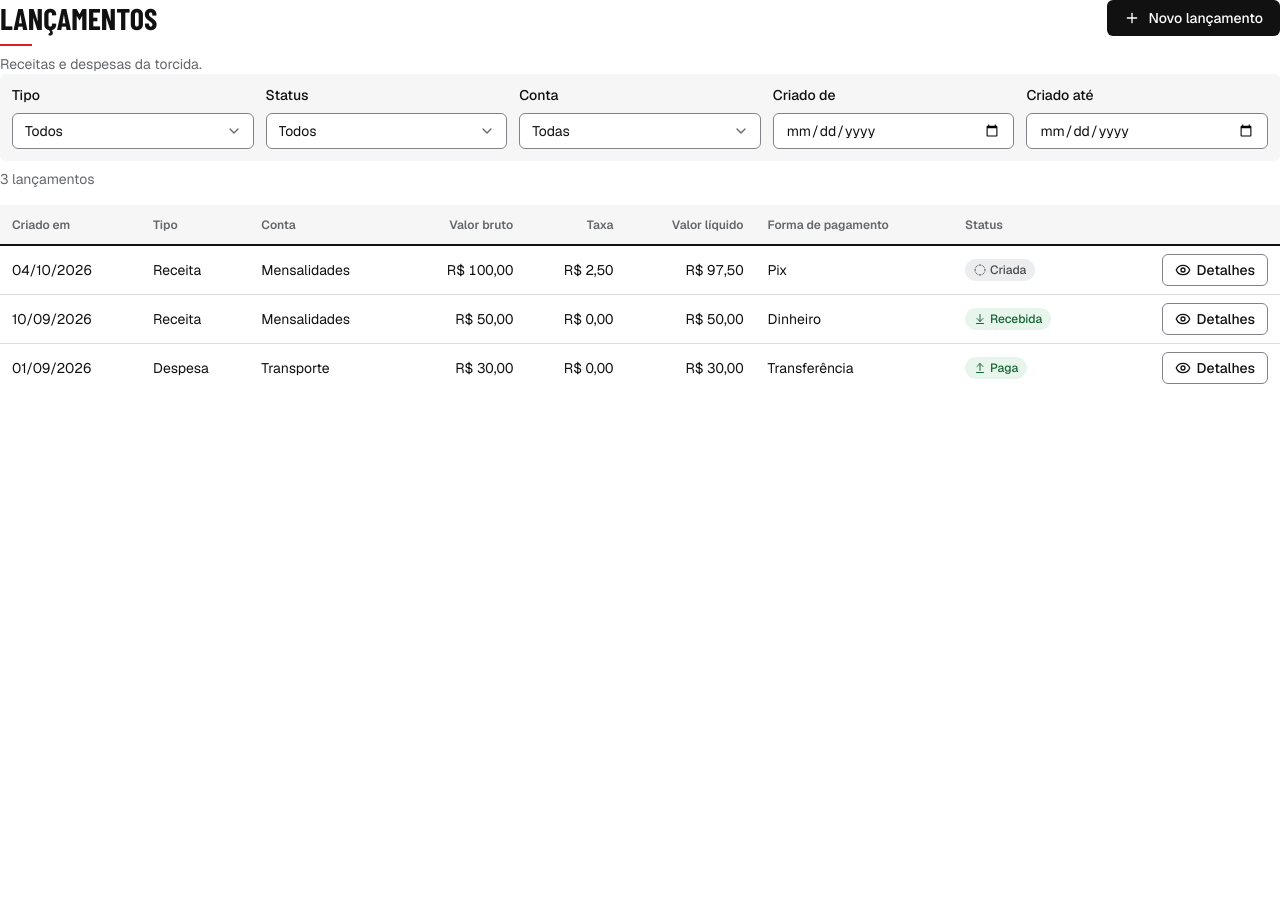
Test: criação › envia os valores em centavos inteiros, com CSRF, e atualiza a lista
Expected: the heading "Lançamentos" is shown, left=0, top=0, right=157, bottom=46
Click the button "Novo lançamento".
click(1194, 18)  # box left=1107, top=0, right=1279, bottom=36
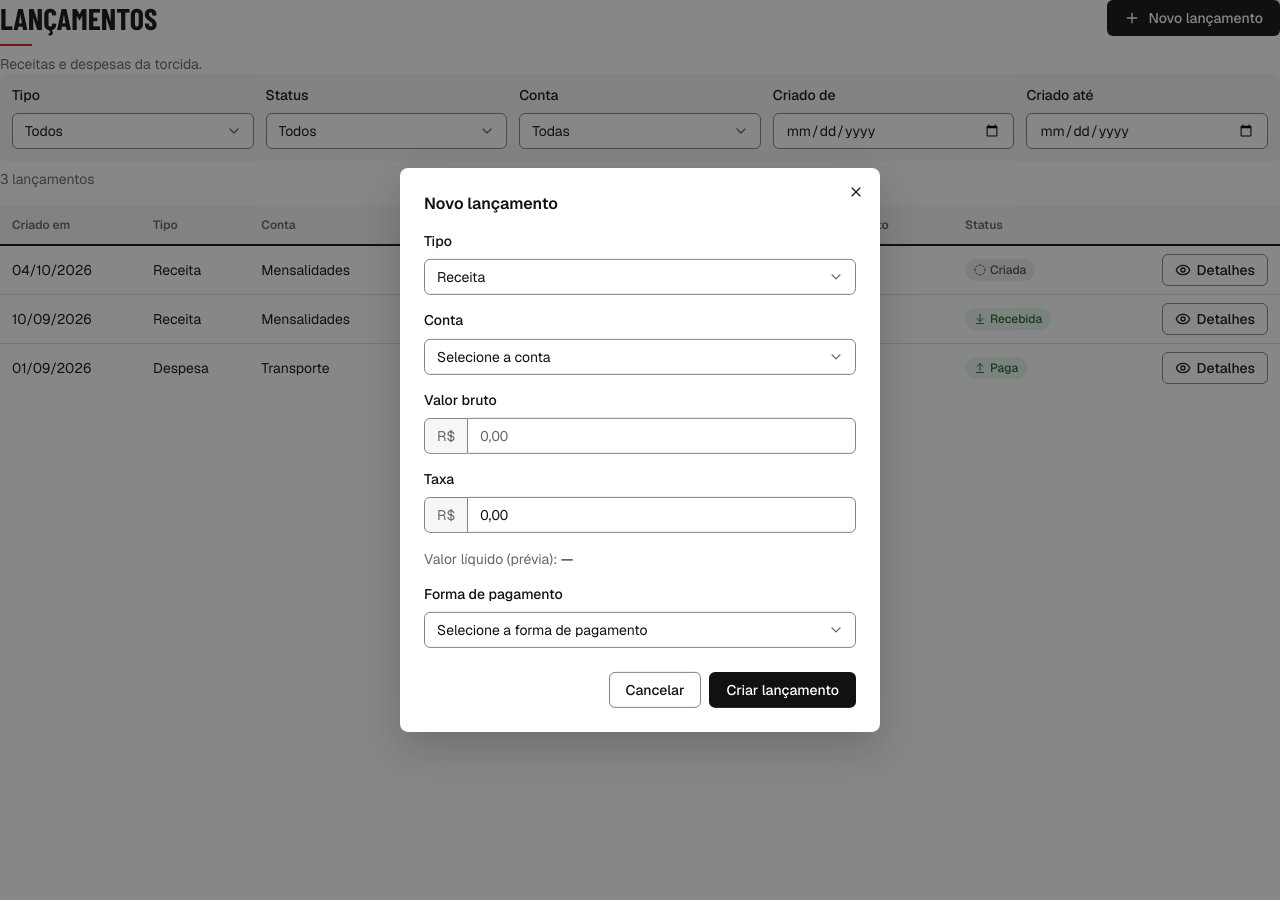
Expected: the dialog is shown, left=400, top=168, right=880, bottom=732
Select "Mensalidades" in the dropdown labelled "Conta" at (640, 356), box left=424, top=338, right=856, bottom=374
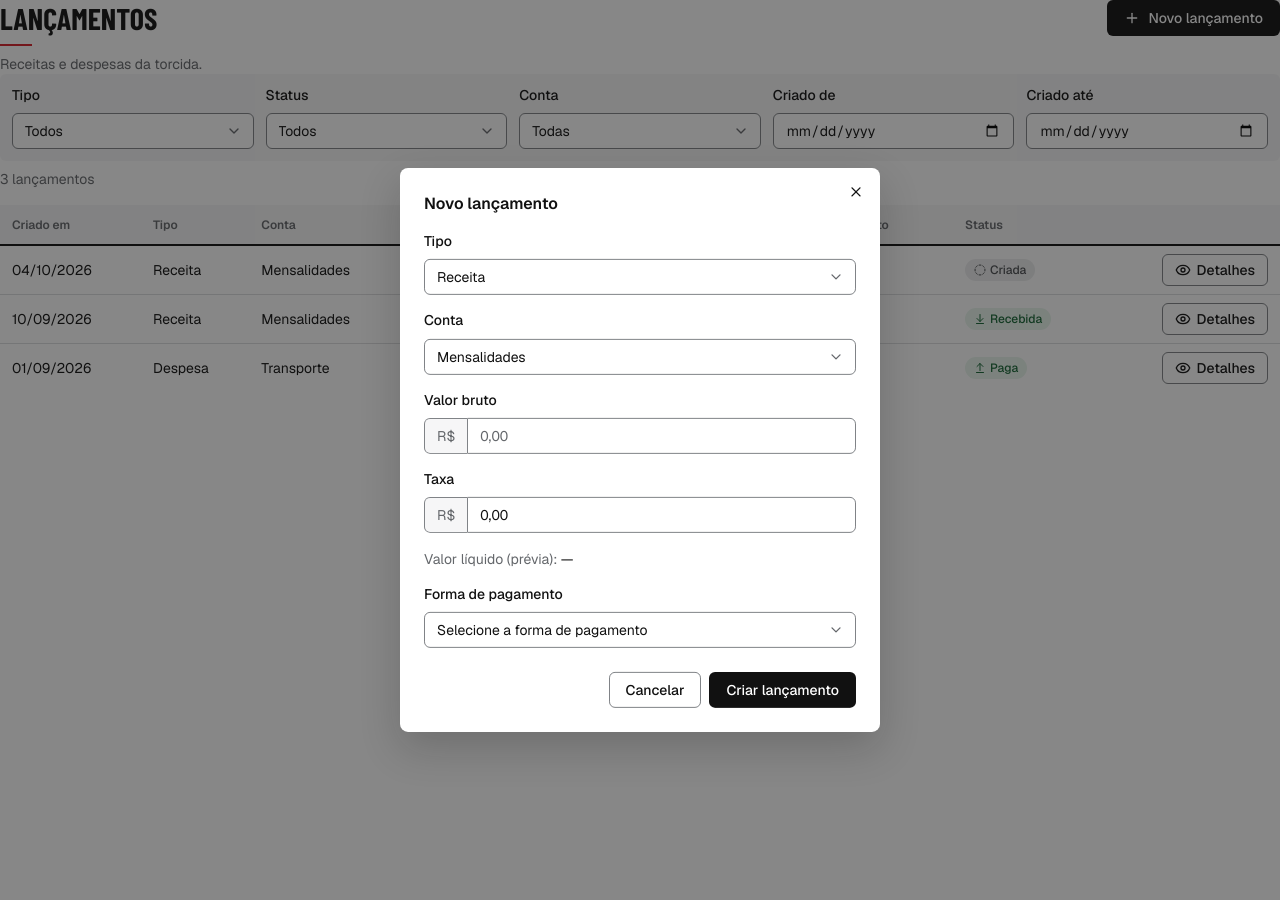
Type "150,00" into the field labelled "Valor bruto".
click(662, 436); type("150,00")  # box left=467, top=418, right=856, bottom=454
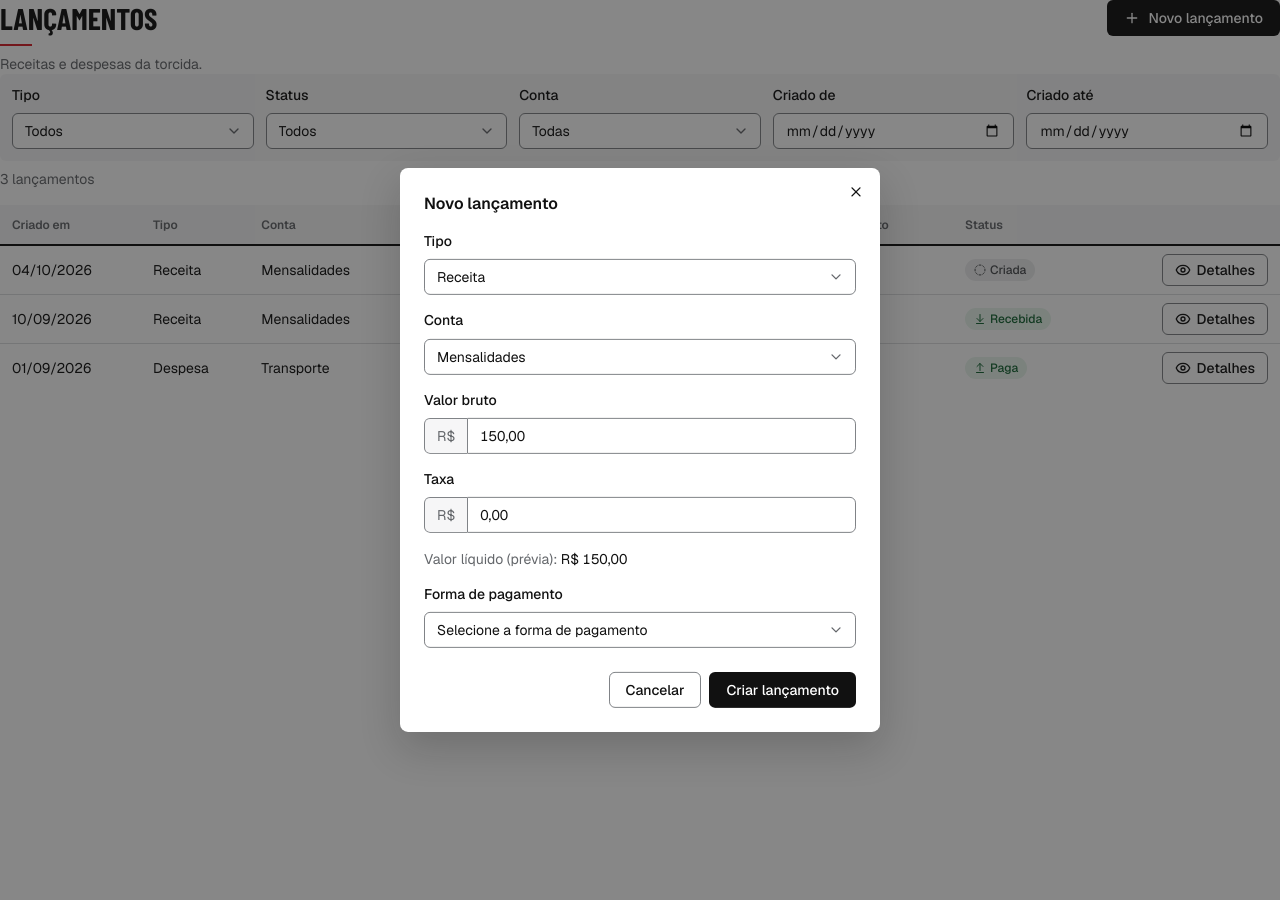
Type "2,50" into the field labelled "Taxa".
click(662, 515); type("2,50")  # box left=467, top=497, right=856, bottom=533
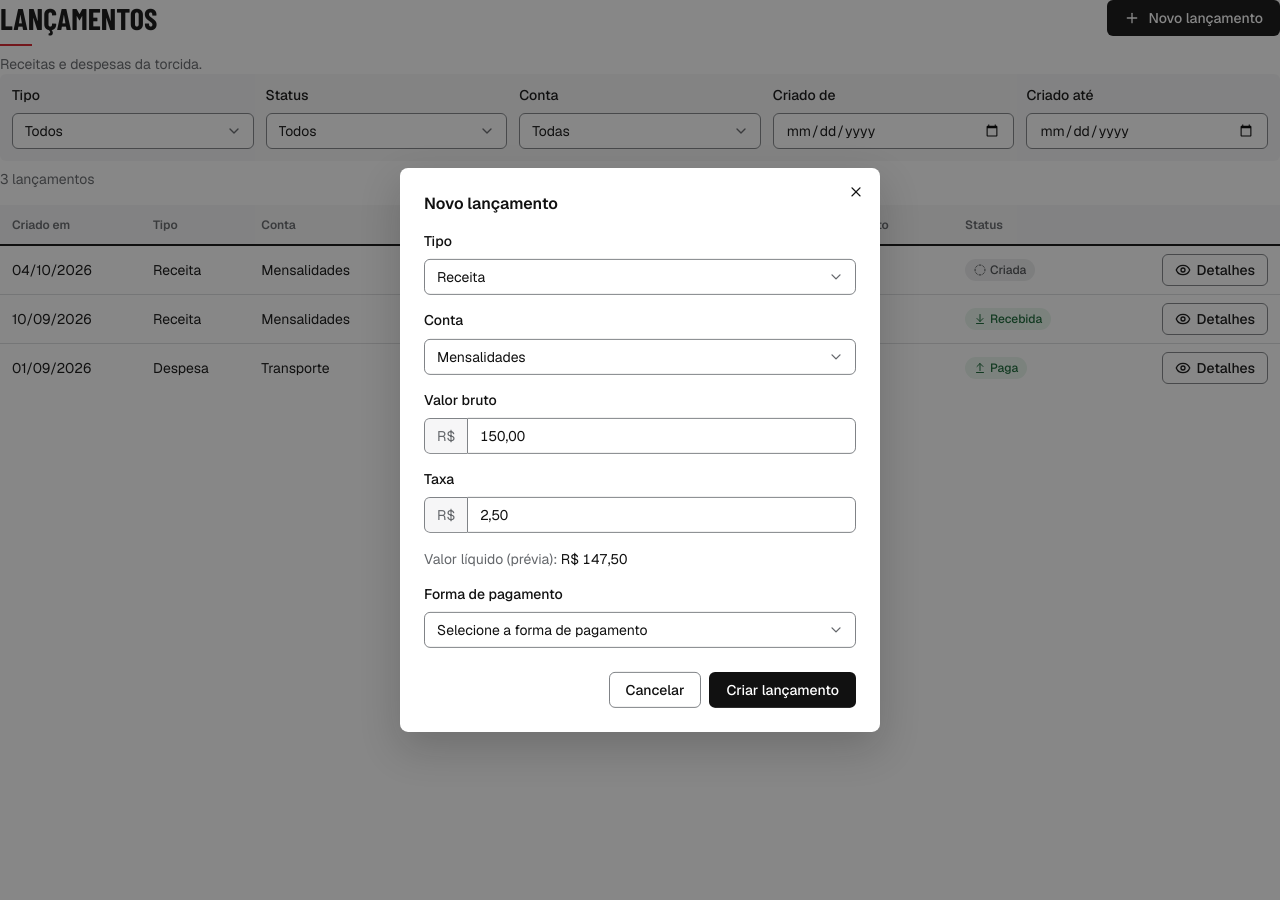
Expected: the element with test id "previa-liquido" reads "R$ 147,50", left=561, top=550, right=627, bottom=568
Select "Pix" in the dropdown labelled "Forma de pagamento" at (640, 630), box left=424, top=612, right=856, bottom=648
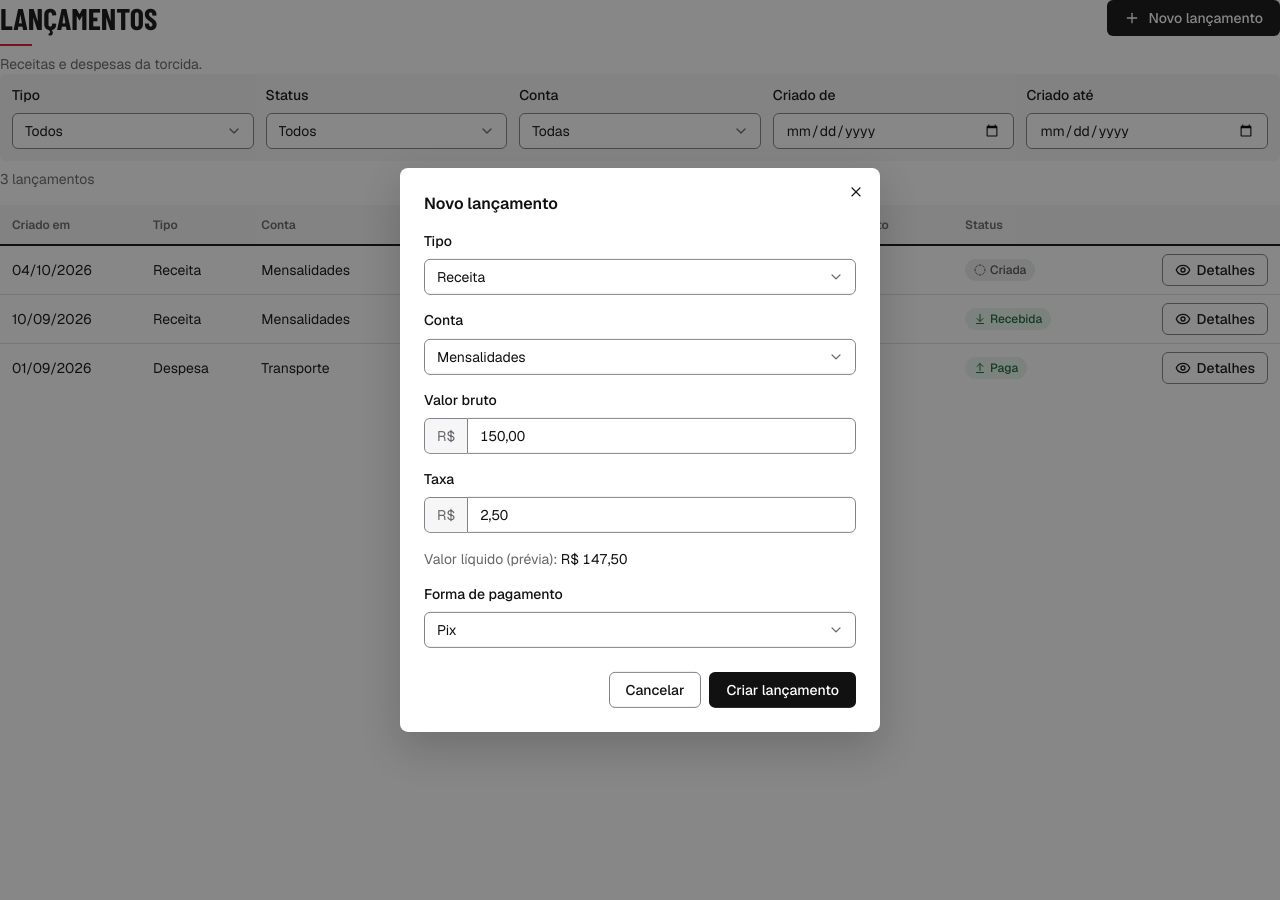
Click the button "Criar lançamento".
click(783, 690)  # box left=710, top=672, right=856, bottom=708
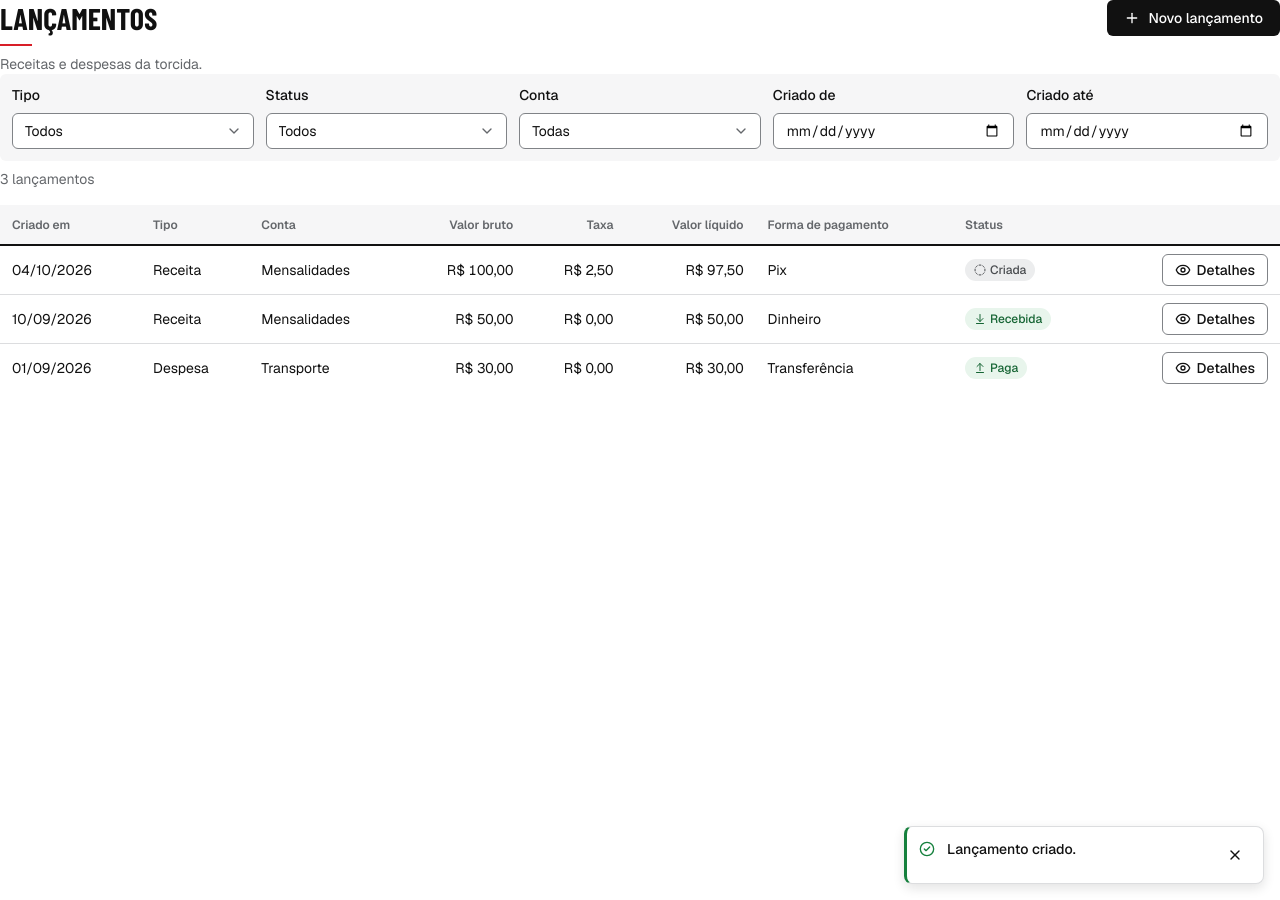
Expected: the text "Lançamento criado." is shown, left=947, top=840, right=1076, bottom=858
